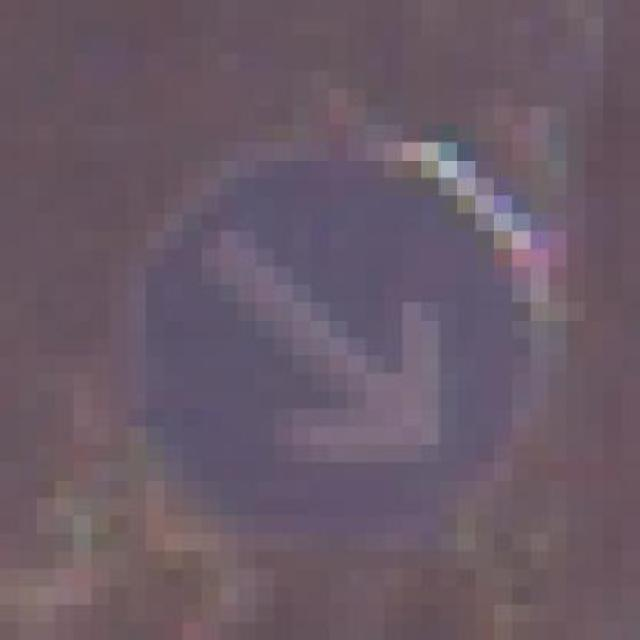Keep-Right: (73, 71, 585, 551)
